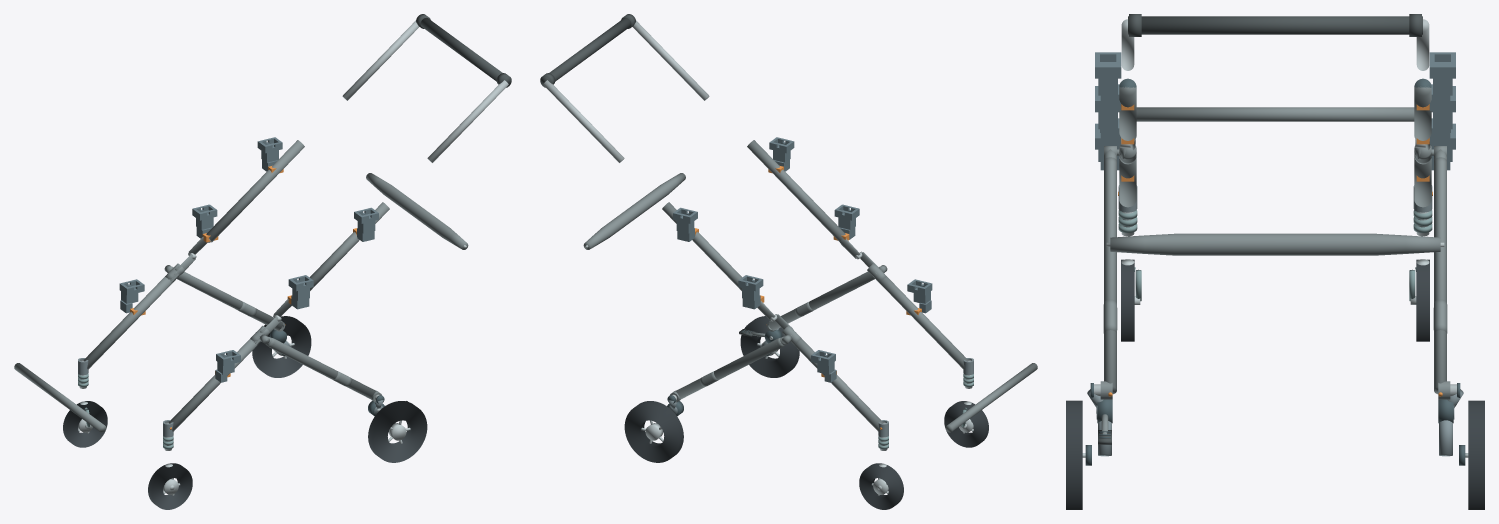
The model's file is w650_state5_wheel_S.glb.
The picture shows the model from 3 angles, left to right: view 1: azimuth 30°, elevation 25°; view 2: azimuth 150°, elevation 25°; view 3: azimuth 270°, elevation 25°; orthographic projection. The views are drawn at different scales.
Parts seen in each view (by area): view 1: RL_tire.015, RR_tire.015, V46_rearbar.013, FL_tire.015, main_upper_1.014, main_lower_1.014, FR_tire.015, round_handle.015, V46_rear_leg_-1.013, V46_rear_leg_1.013, front_fixed_round_tube.014, main_lower_-1.014 (+9 smaller); view 2: RR_tire.015, RL_tire.015, V46_rearbar.013, FR_tire.015, main_upper_-1.014, main_lower_-1.014, FL_tire.015, round_handle.015, V46_rear_leg_1.013, V46_rear_leg_-1.013, front_fixed_round_tube.014, main_lower_1.014 (+9 smaller); view 3: V46_rearbar.013, round_handle.015, front_fixed_round_tube.014, V46_rear_leg_1.013, V46_rear_leg_-1.013, RL_tire.015, RR_tire.015, Universal_Cabin_Receiver_H_1, Universal_Cabin_Receiver_H_-1, FL_tire.015, FR_tire.015, main_upper_-1.014 (+8 smaller).
Boxes of the visible parts, x1,y1,x2,y2 form: RL_tire.015: [368, 401, 427, 462]; RR_tire.015: [252, 316, 311, 377]; V46_rearbar.013: [366, 173, 468, 249]; FL_tire.015: [148, 463, 192, 509]; main_upper_1.014: [206, 140, 304, 241]; main_lower_1.014: [83, 274, 178, 369]; FR_tire.015: [63, 401, 107, 447]; round_handle.015: [420, 18, 510, 86]; V46_rear_leg_-1.013: [267, 338, 376, 399]; V46_rear_leg_1.013: [177, 272, 282, 330]; front_fixed_round_tube.014: [14, 363, 106, 432]; main_lower_-1.014: [168, 339, 260, 431]; RR_tire.015: [624, 401, 683, 462]; RL_tire.015: [740, 316, 799, 377]; V46_rearbar.013: [583, 173, 685, 249]; FR_tire.015: [859, 463, 903, 509]; main_upper_-1.014: [747, 140, 845, 241]; main_lower_-1.014: [873, 274, 968, 369]; FL_tire.015: [944, 401, 988, 447]; round_handle.015: [541, 18, 631, 86]; V46_rear_leg_1.013: [675, 338, 784, 399]; V46_rear_leg_-1.013: [769, 271, 874, 330]; front_fixed_round_tube.014: [945, 363, 1037, 432]; main_lower_1.014: [791, 339, 883, 431]; V46_rearbar.013: [1110, 233, 1440, 255]; round_handle.015: [1128, 16, 1422, 34]; front_fixed_round_tube.014: [1136, 107, 1414, 121]; V46_rear_leg_1.013: [1434, 157, 1446, 394]; V46_rear_leg_-1.013: [1104, 157, 1116, 394]; RL_tire.015: [1066, 400, 1082, 509]; RR_tire.015: [1468, 400, 1484, 509]; Universal_Cabin_Receiver_H_1: [1429, 52, 1455, 110]; Universal_Cabin_Receiver_H_-1: [1095, 52, 1121, 110]; FL_tire.015: [1121, 259, 1134, 341]; FR_tire.015: [1416, 259, 1429, 341]; main_upper_-1.014: [1119, 86, 1136, 140].
Bounding box in the file's own units: 1.51 × 1.23 × 0.766.
